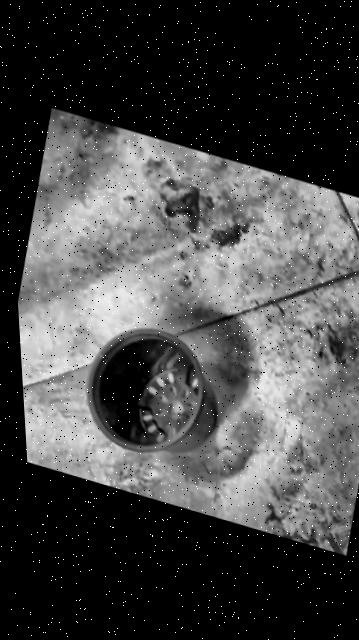pot: (71, 312, 232, 474)
